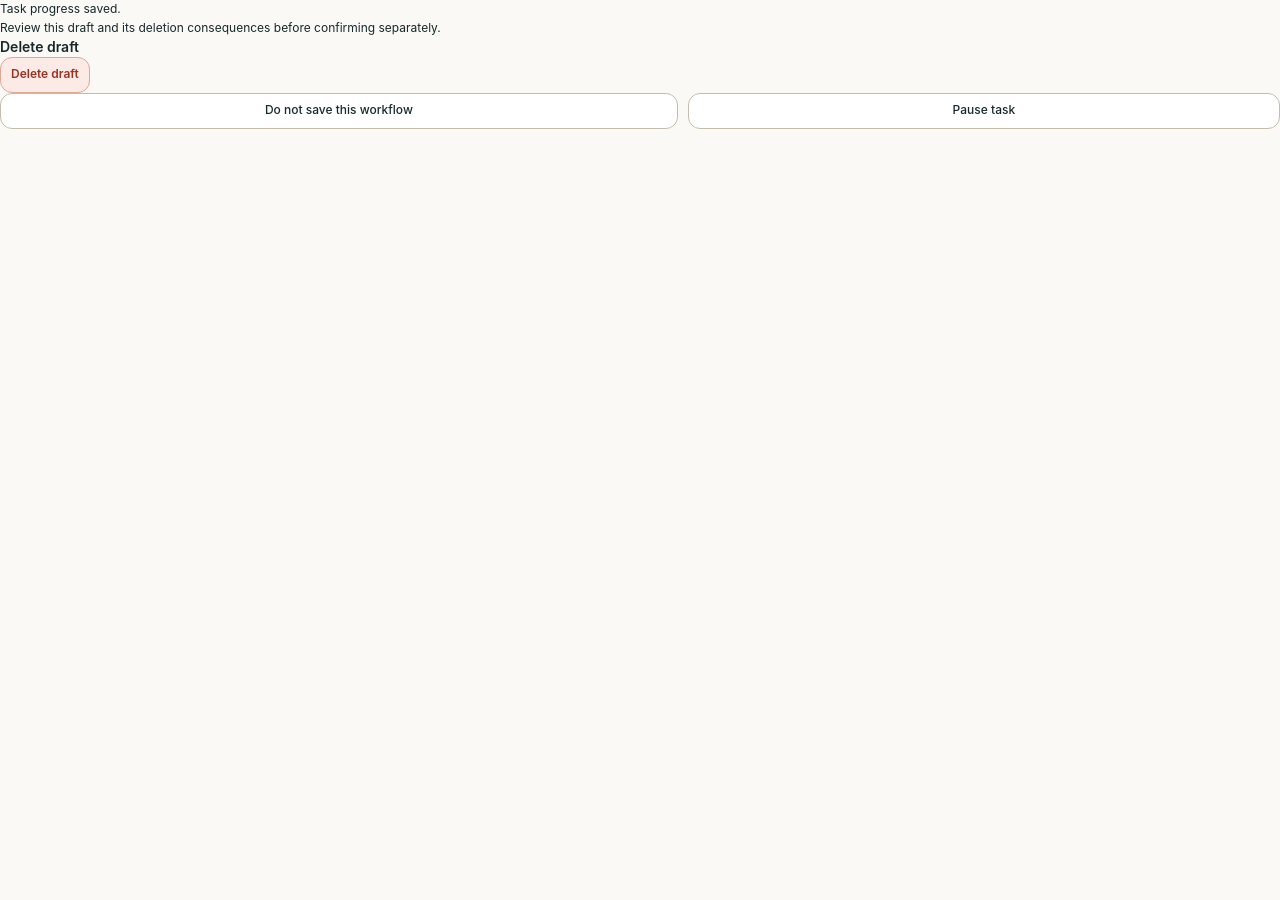
shows how many unfinished versions and source registrations will be removed before confirmation
Click the button "Delete draft".
click(45, 75)  # box [0, 57, 90, 93]
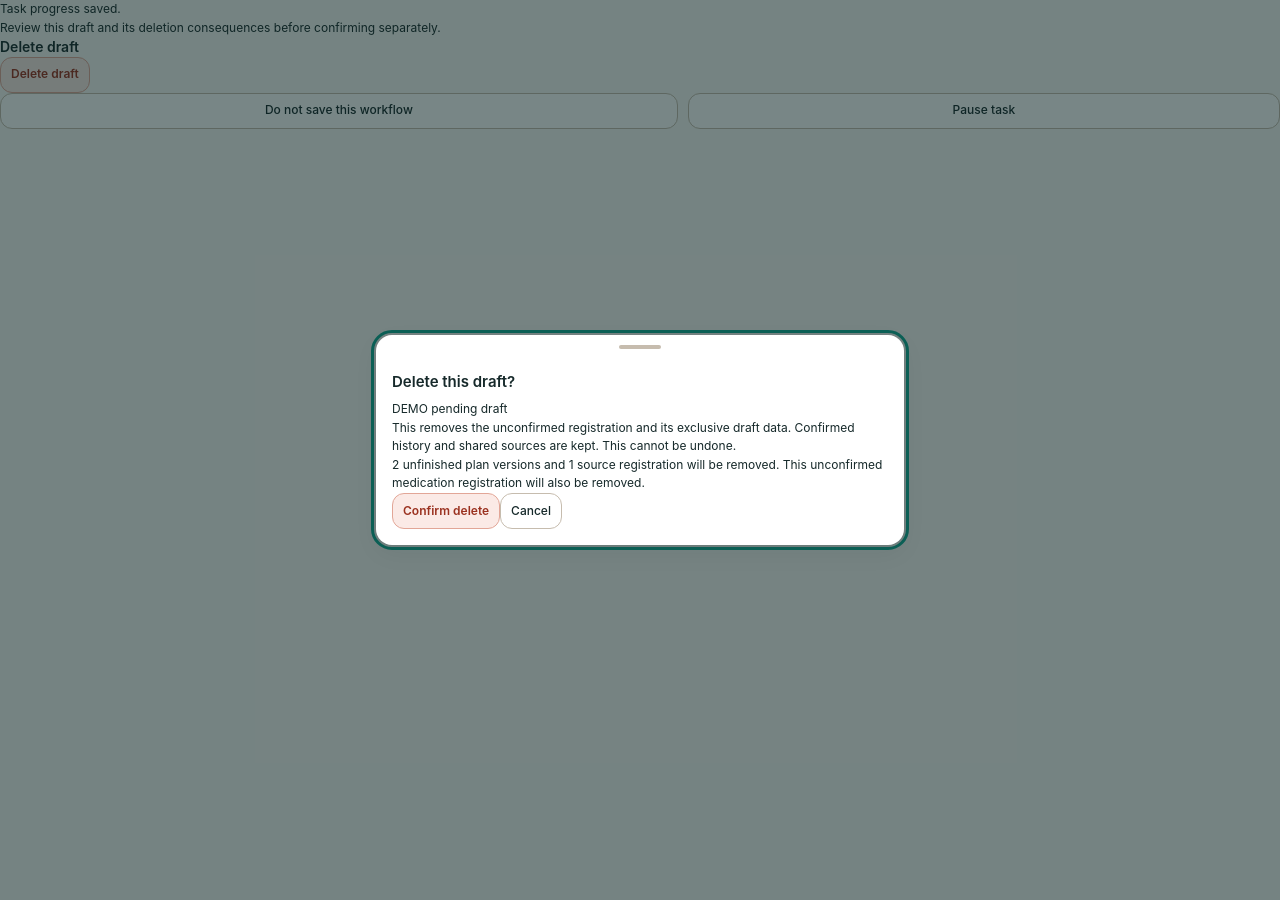
Result: the text "1 source registration" is shown at [392, 457, 779, 472]
